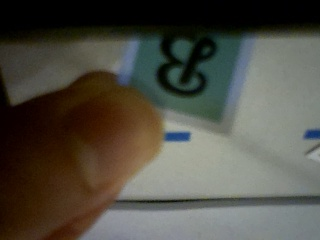B: (123, 37, 244, 124)
